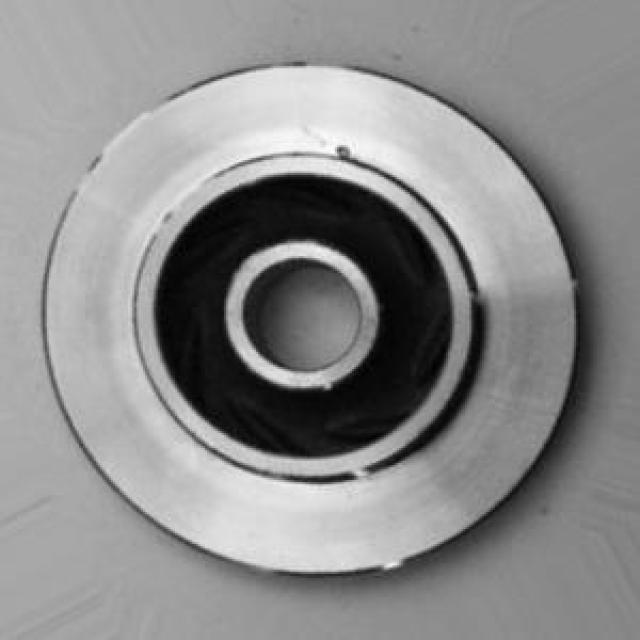Defect: (328, 136, 367, 173)
